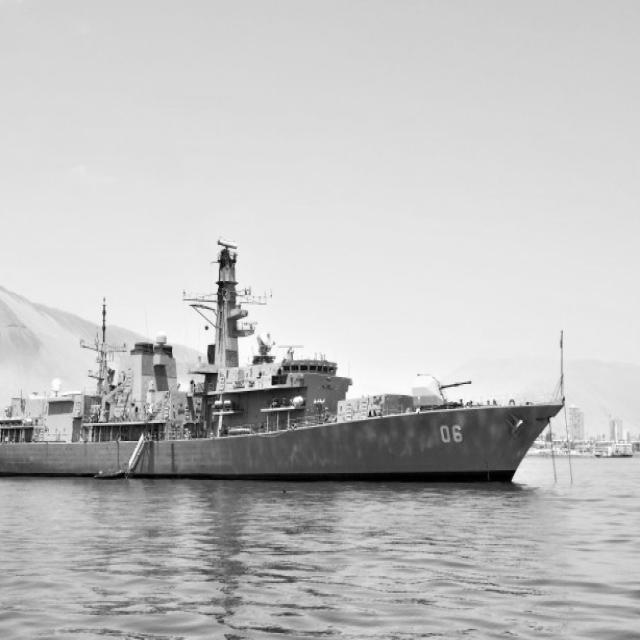Fragata: (1, 236, 574, 493)
